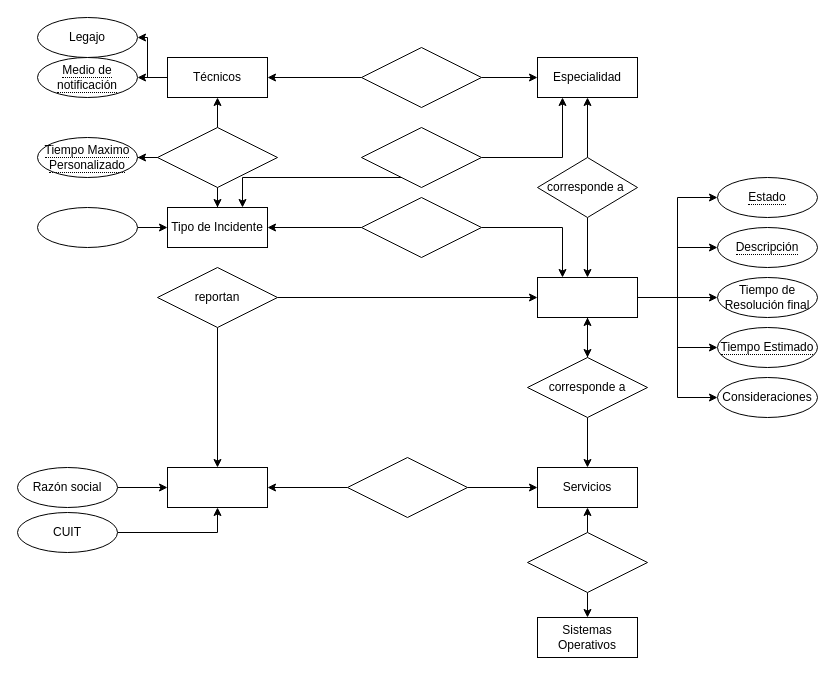
This 835x683 diagram has some shape labels left out. The centre of each missing label's shape, as x and y in pixels:
"Clientes" goes at point (217, 487).
"configuran" goes at point (217, 157).
"contrata" goes at point (407, 487).
"es resuelto por" goes at point (421, 157).
"Incidentes" goes at point (587, 297).
"son para" goes at point (587, 562).
"Tiempo Maximo" goes at point (87, 227).
"tiene" goes at point (421, 77).
"tienen un" goes at point (421, 227).
